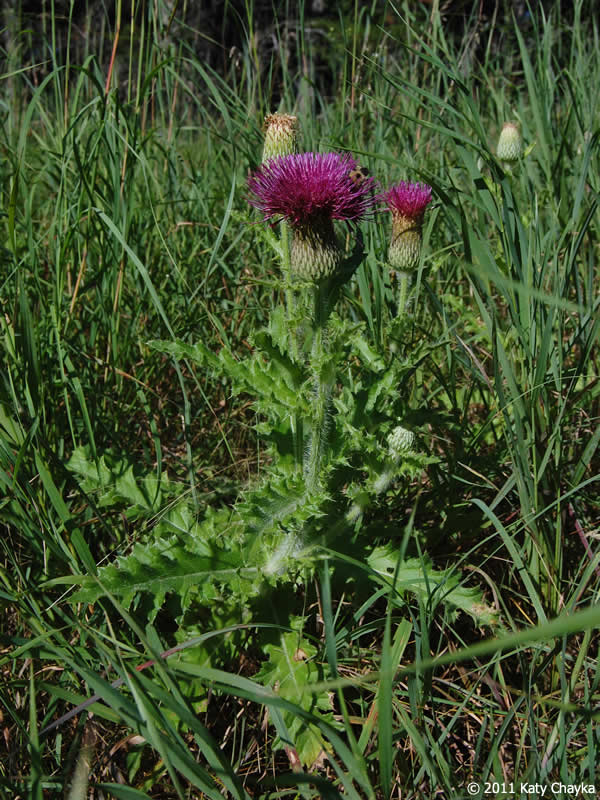thistle: (229, 143, 359, 286), (382, 178, 437, 277)
